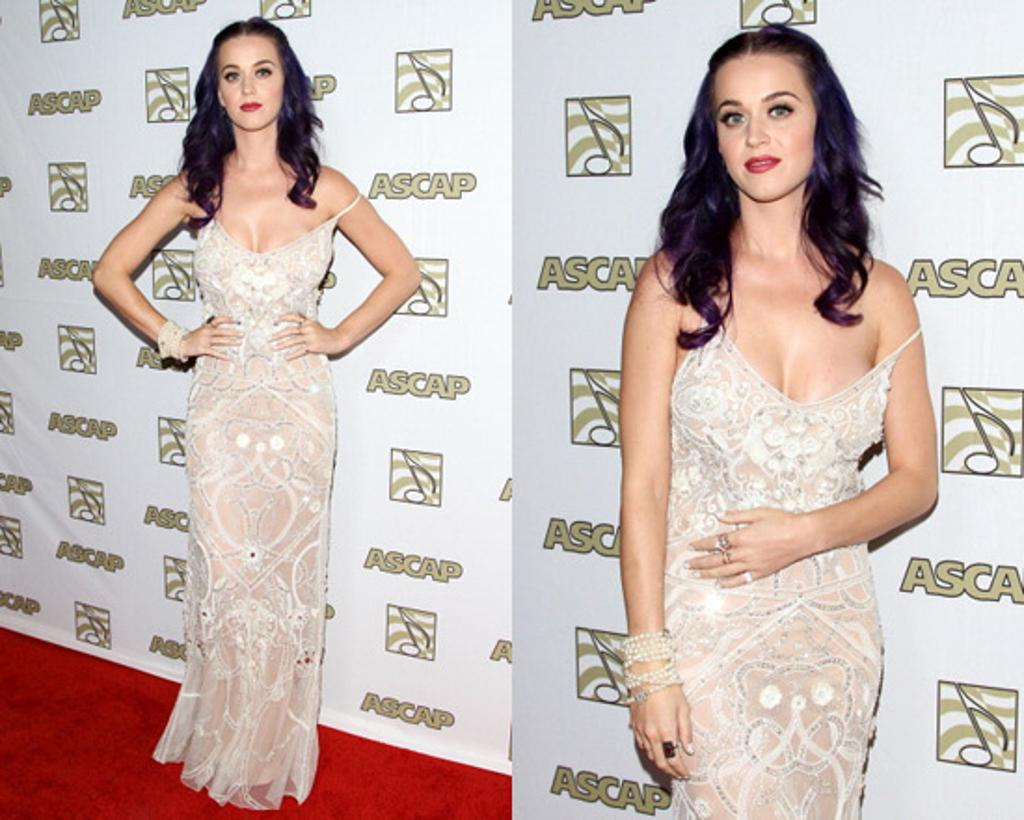face: (714, 58, 816, 202), (218, 32, 284, 128)
